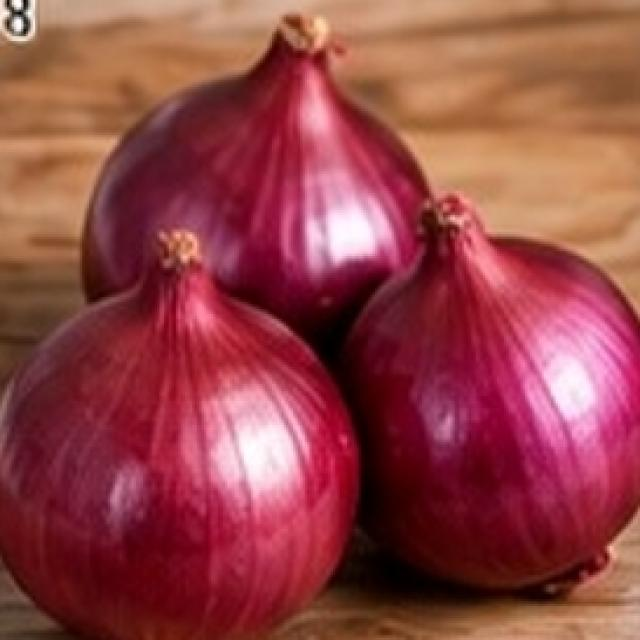healthy: (0, 17, 638, 638), (47, 213, 356, 604), (359, 200, 638, 587)
